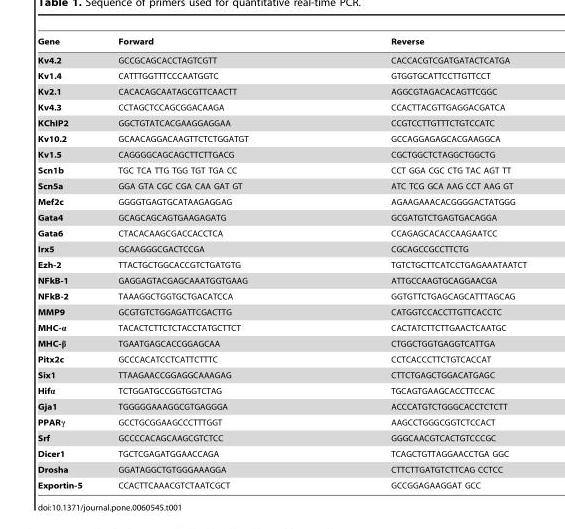table: (37, 36, 526, 489)
table column: (99, 36, 318, 489), (318, 36, 526, 489), (37, 36, 99, 489)
table column header: (37, 36, 526, 50)
table row: (37, 50, 526, 67), (37, 67, 526, 83), (37, 83, 526, 99), (37, 99, 526, 115), (37, 130, 526, 146), (37, 146, 526, 162), (37, 162, 526, 178), (37, 193, 526, 209), (37, 209, 526, 225), (37, 225, 526, 241), (37, 256, 526, 272), (37, 272, 526, 288), (37, 288, 526, 304), (37, 319, 526, 335), (37, 335, 526, 351), (37, 351, 526, 367), (37, 382, 526, 398), (37, 398, 526, 414), (37, 414, 526, 430), (37, 445, 526, 461), (37, 461, 526, 477), (37, 115, 526, 130), (37, 178, 526, 193), (37, 241, 526, 256), (37, 304, 526, 319), (37, 367, 526, 382), (37, 430, 526, 445), (37, 36, 526, 50), (37, 477, 526, 489)
